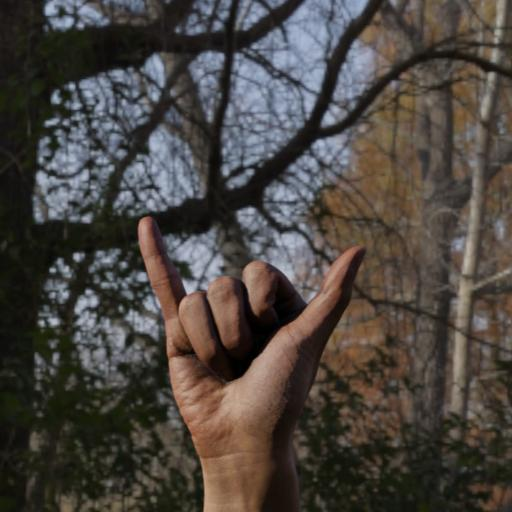Y: (132, 208, 372, 436)
